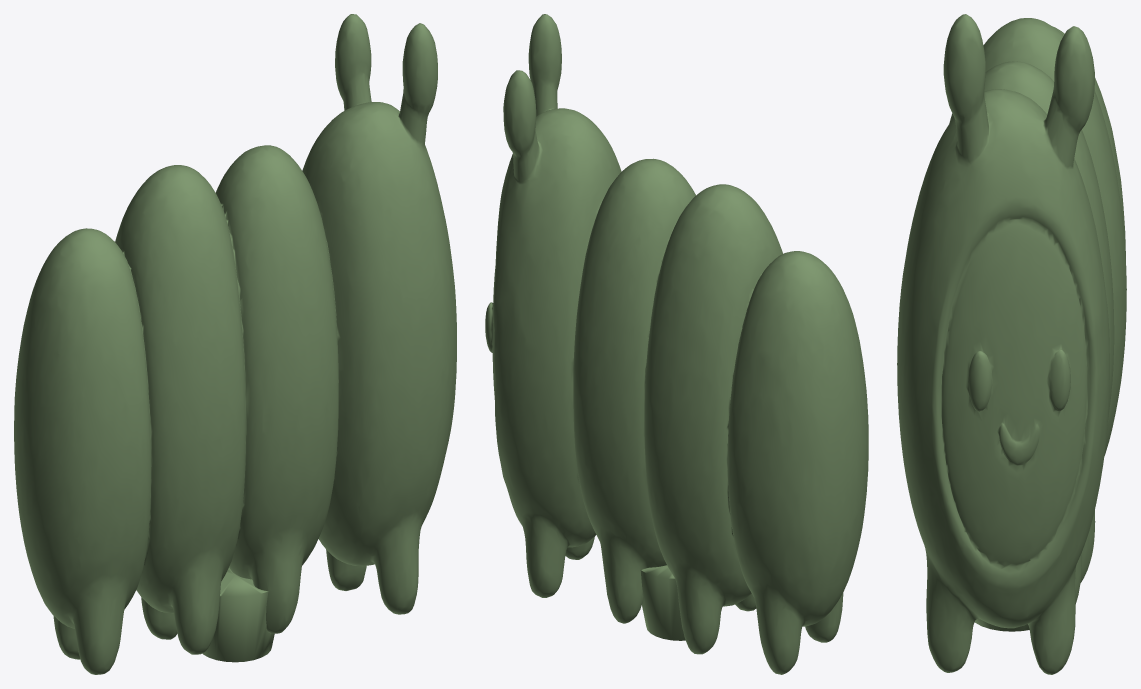
Rendered from caterpillar-friend.glb.
3 renders of one model, left to right at view 1: azimuth 30°, elevation 25°; view 2: azimuth 150°, elevation 25°; view 3: azimuth 270°, elevation 25°, orthographic. The views are drawn at different scales.
Parts seen in each view (by area): view 1: tripo_printable_source; view 2: tripo_printable_source; view 3: tripo_printable_source.
Boxes of the visible parts, box(x1,y1,x2,y2) form: tripo_printable_source: box(14, 14, 456, 674); tripo_printable_source: box(485, 14, 868, 674); tripo_printable_source: box(897, 14, 1126, 674).
Bounding box in the file's own units: 70 × 100 × 30.09.
